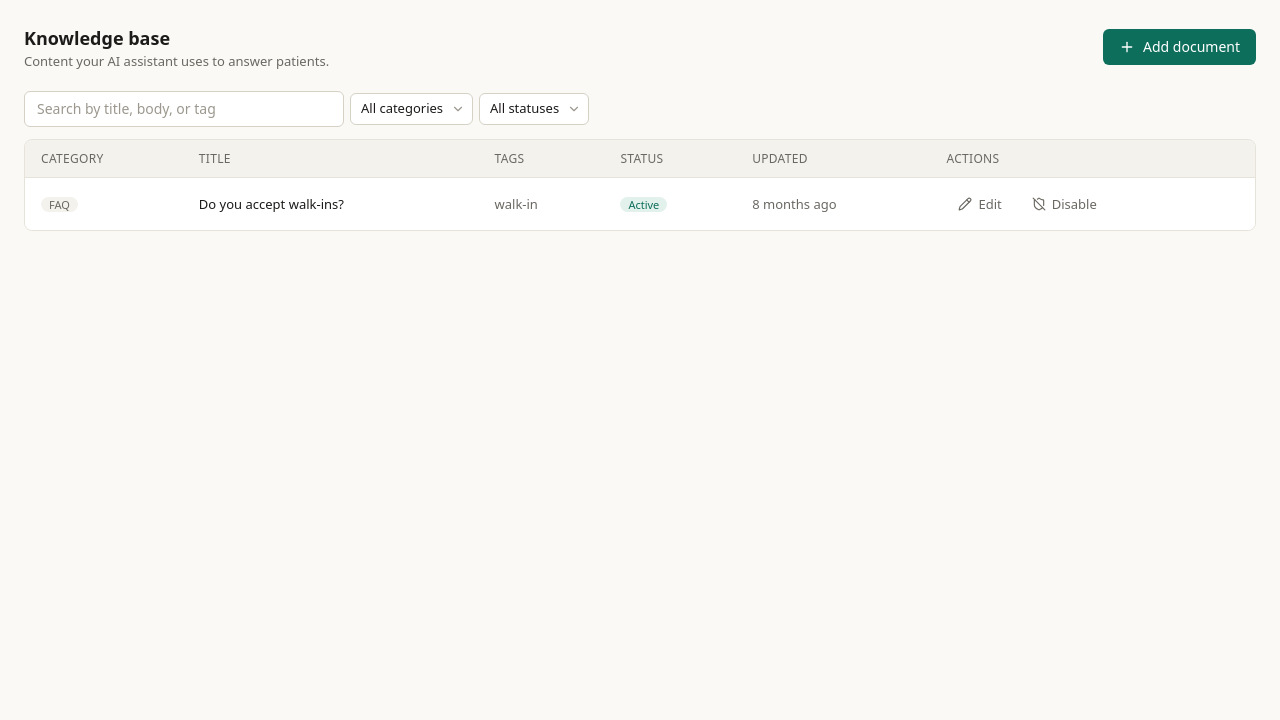
Test: KnowledgePage › surfaces a mutation error when disabling fails
Click the button with aria-label "Disable Do you accept walk-ins?" at (1064, 204), box [1020,188,1109,220]
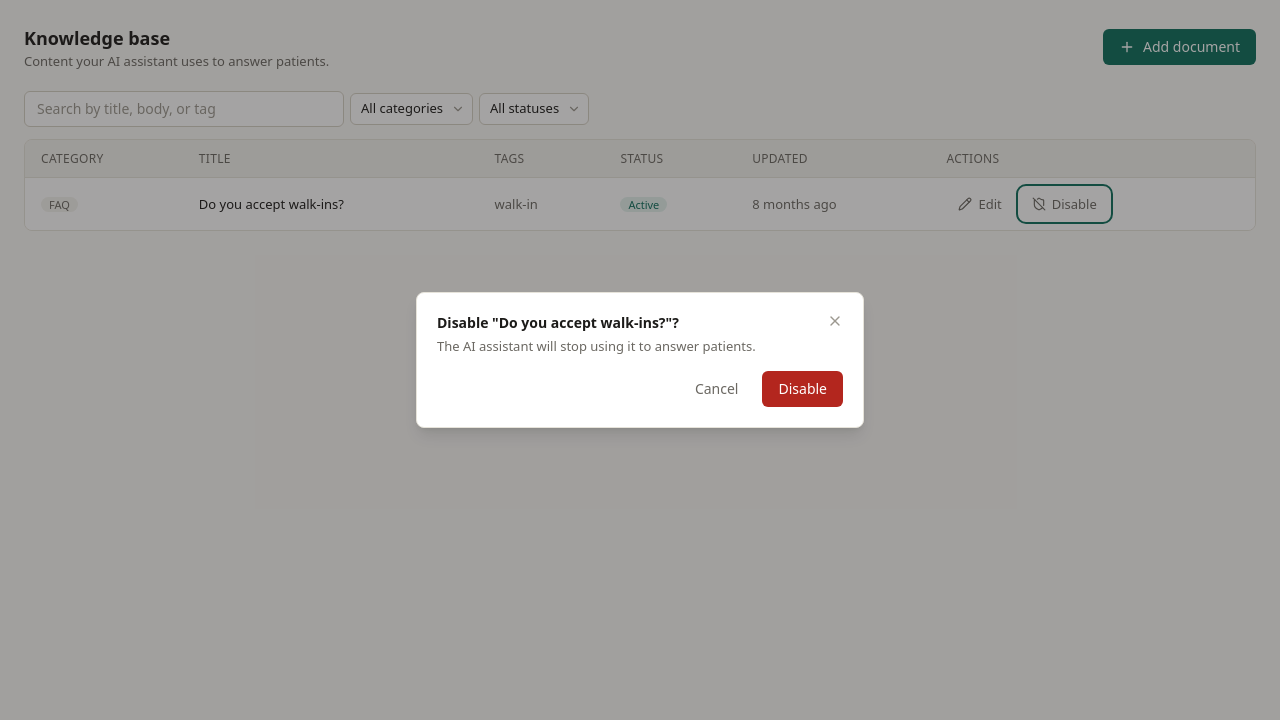
Click the button "Disable" at (803, 389), box [762,371,843,407]
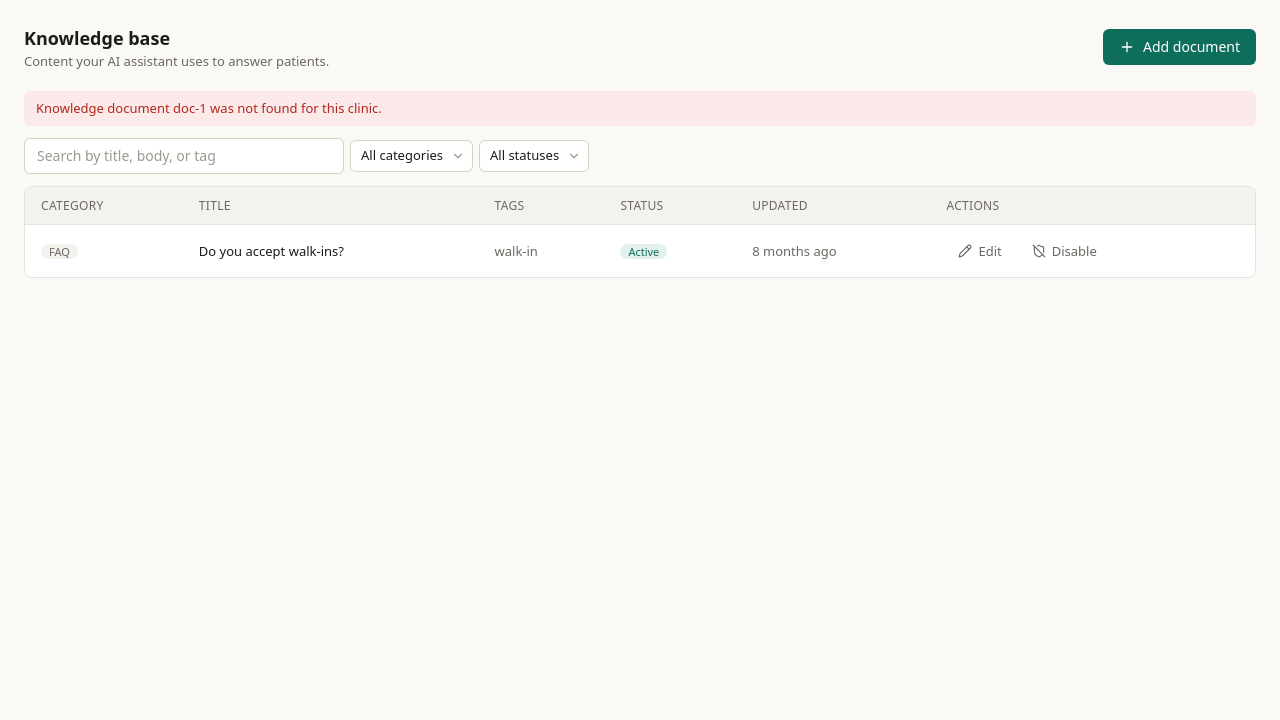
Result: the message reads "Knowledge document doc-1 was not found for this clinic." at [36,99,382,117]
